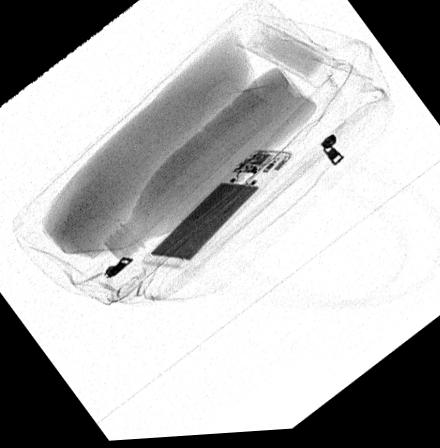Powerbank: (139, 152, 291, 272)
